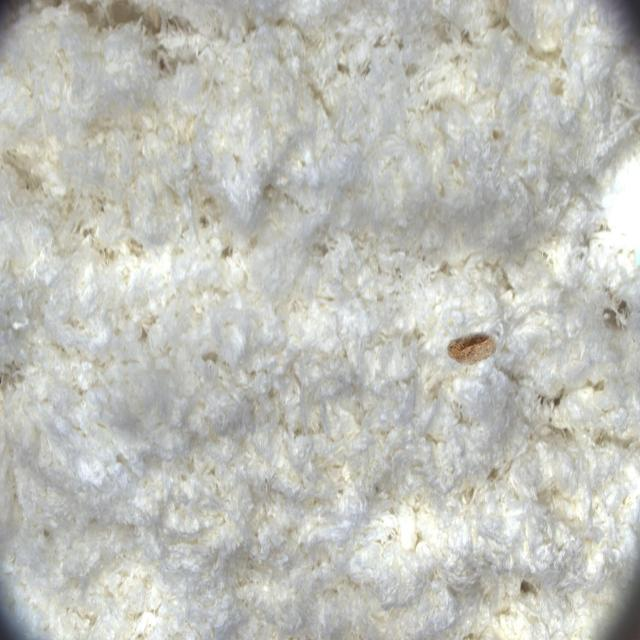dust: (426, 303, 510, 395)
